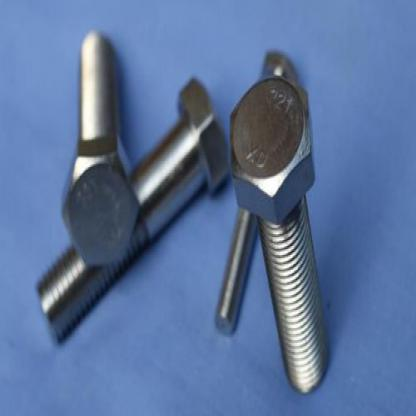FOD: (34, 76, 232, 347), (230, 69, 333, 395), (60, 31, 141, 272)
